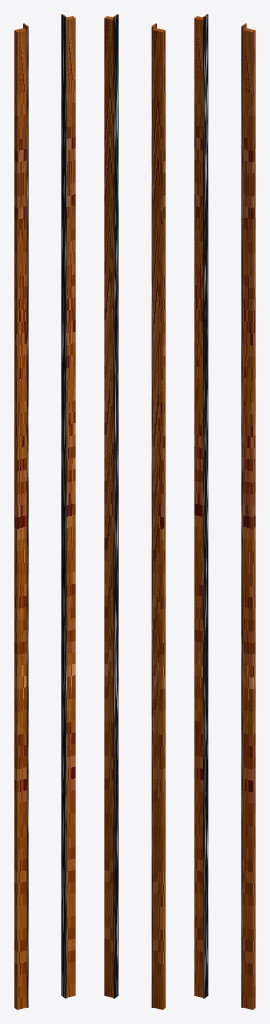
File: clean_dooorlift.glb
3 renders of one model, left to right at view 1: azimuth 30°, elevation 25°; view 2: azimuth 150°, elevation 25°; view 3: azimuth 330°, elevation 25°, orthographic.
Parts seen in each view (by area): view 1: Куб; view 2: Куб; view 3: Куб.
Boxes of the visible parts, left/top/right/bottom form: Куб: left=14, top=14, right=75, bottom=1009; Куб: left=104, top=14, right=165, bottom=1009; Куб: left=194, top=14, right=255, bottom=1009.
Size of the model in its own units: 7 by 112 by 0.8834.
4 materials, 4 textured.
